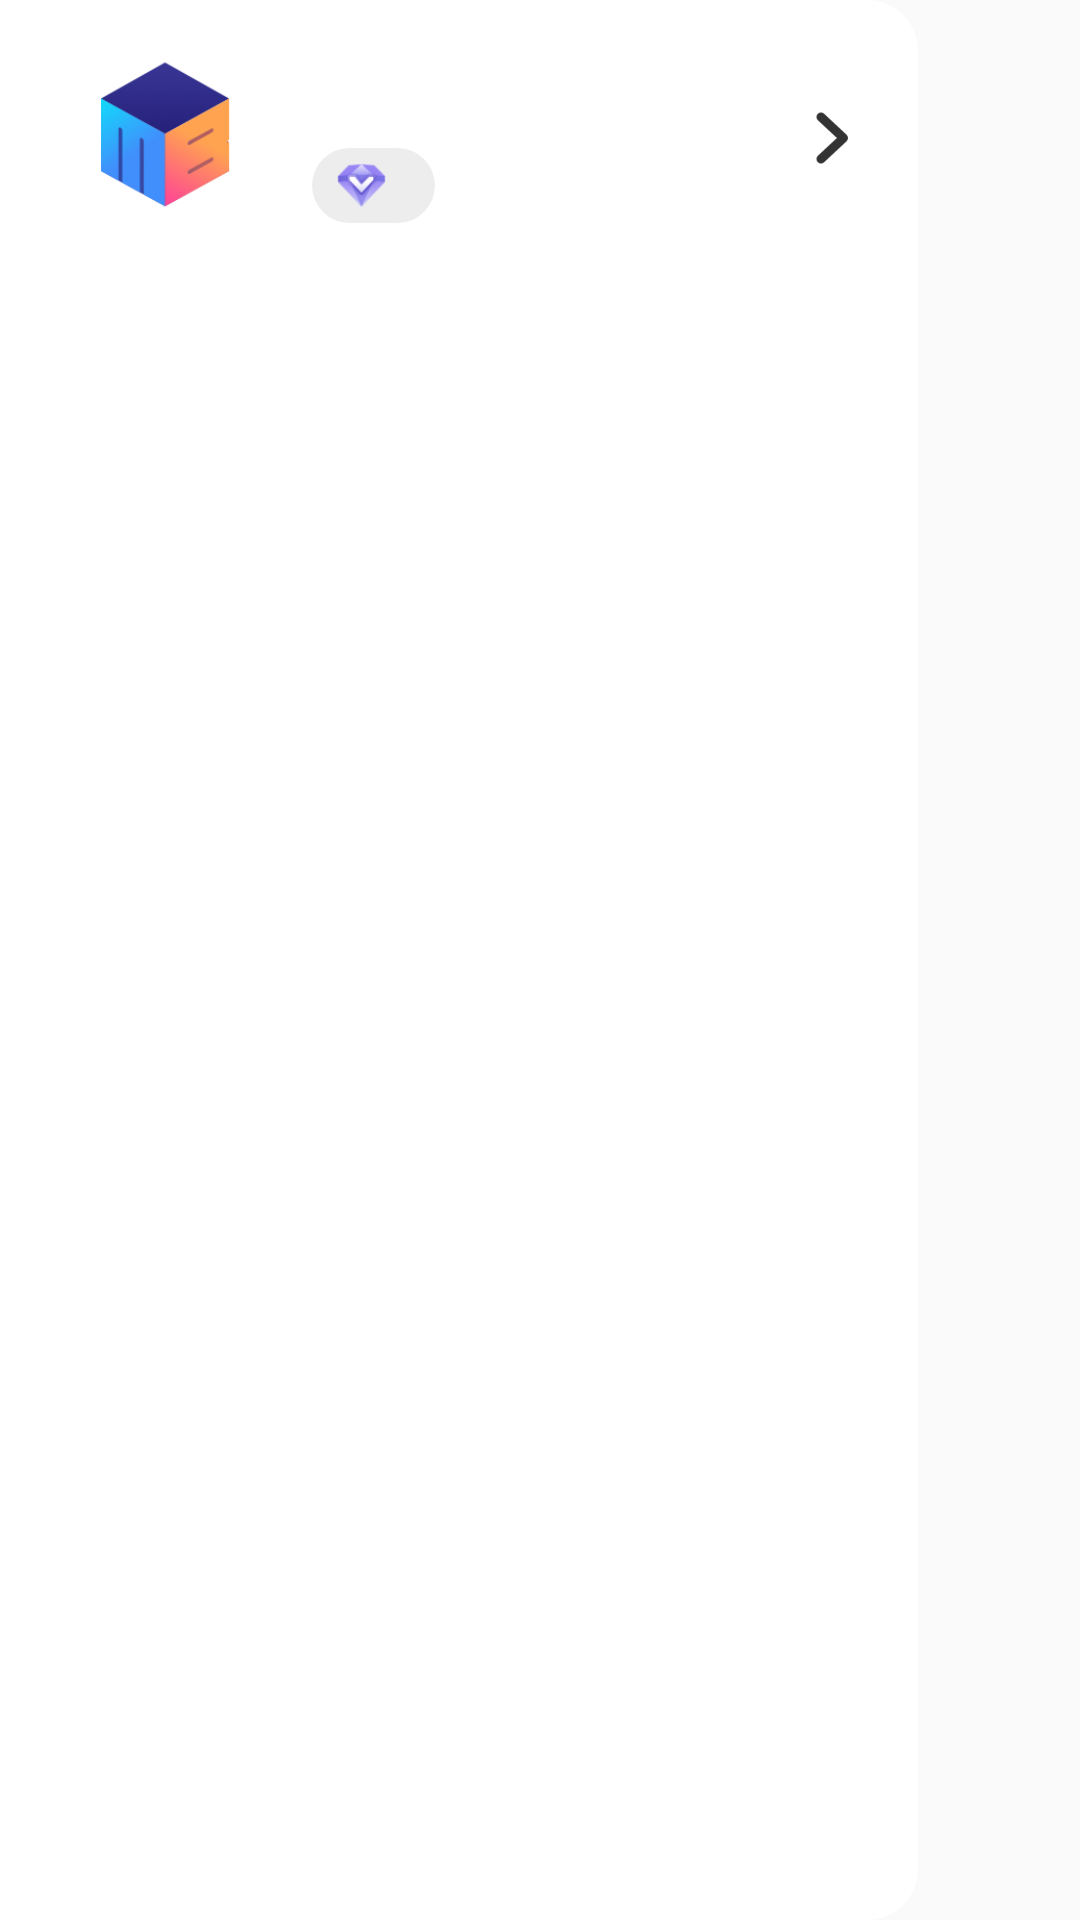

Point at icon controls on the screen. Image size 1080px×1920px, points as (x=x, y=y).
home right: (x=832, y=138)
vip: (x=361, y=185)
